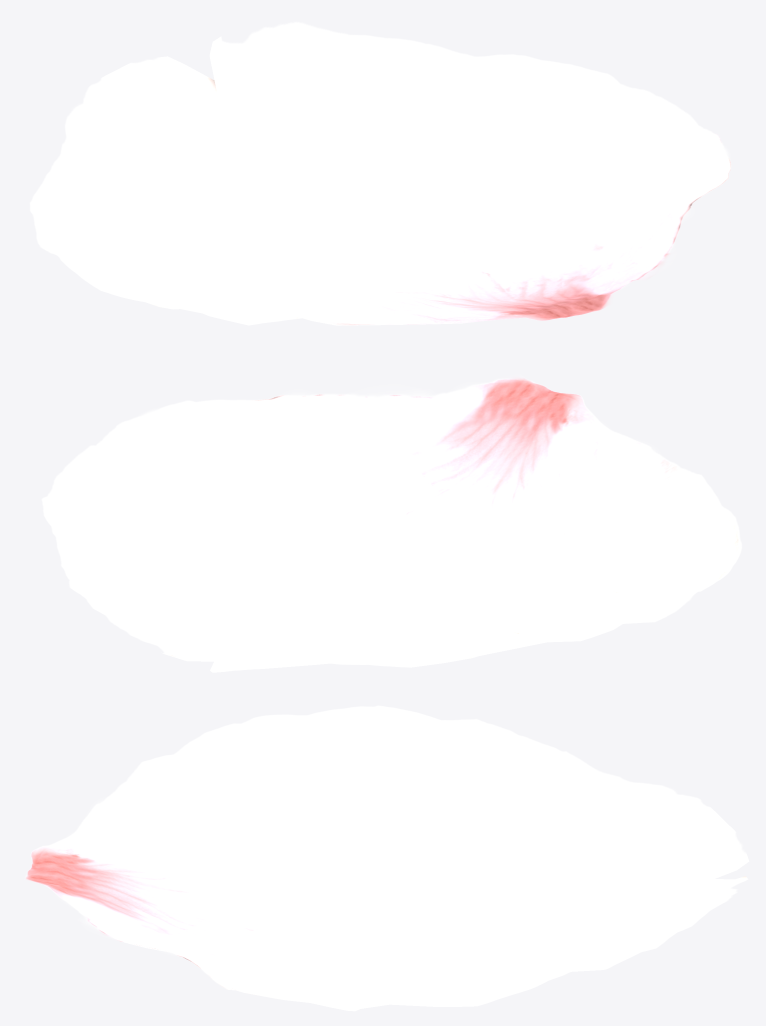
The model's file is petal1.glb.
3 views of the same model, one above another, from view 1: azimuth 30°, elevation 25°; view 2: azimuth 150°, elevation 25°; view 3: azimuth 270°, elevation 25° (orthographic). The views are drawn at different scales.
Visible parts, largest first — view 1: Object_86; view 2: Object_86; view 3: Object_86.
Boxes of the visible parts, <box> form: Object_86: <box>29,21,731,325</box>; Object_86: <box>41,376,741,672</box>; Object_86: <box>25,705,749,1011</box>.
Size of the model in its own units: 1.85 by 0.2033 by 1.86.
Materials: 1 (1 with a texture image).
